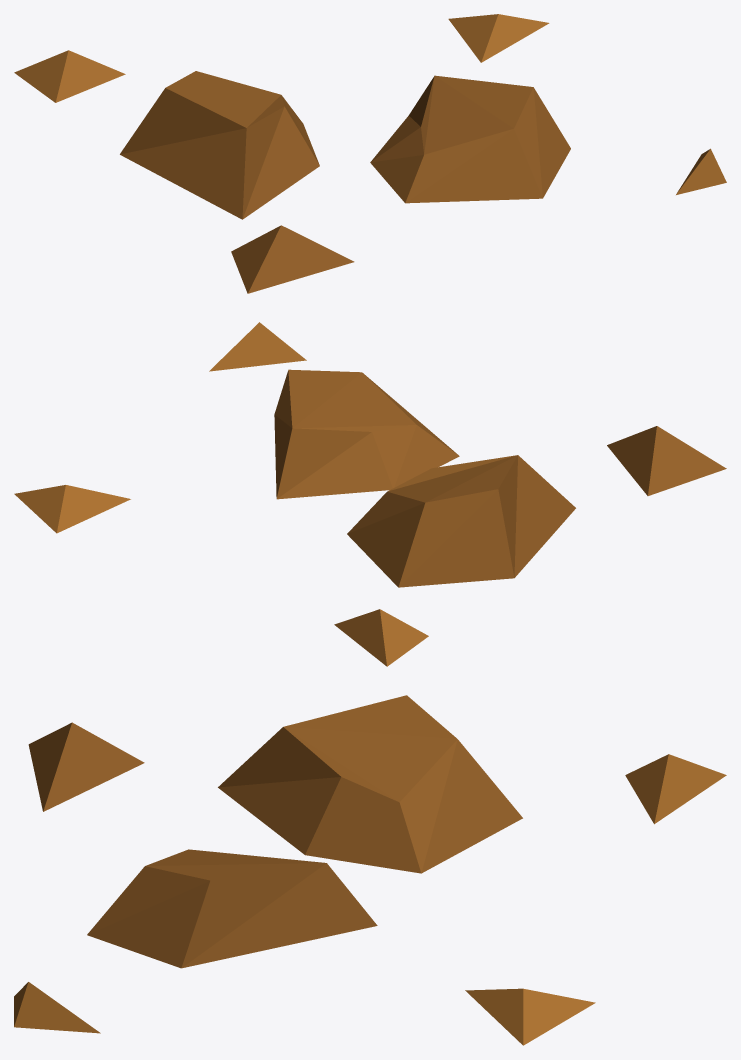
The picture shows the model from 3 angles, top to bottom: view 1: azimuth 30°, elevation 25°; view 2: azimuth 150°, elevation 25°; view 3: azimuth 270°, elevation 25°; orthographic projection. The views are drawn at different scales.
Bounding box in the file's own units: 98 × 14 × 98.
1 material, 1 textured.
